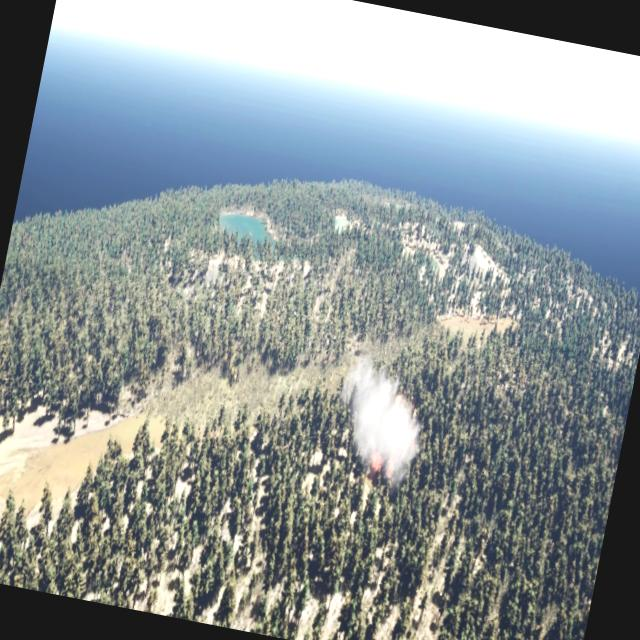fire: (328, 356, 434, 490)
